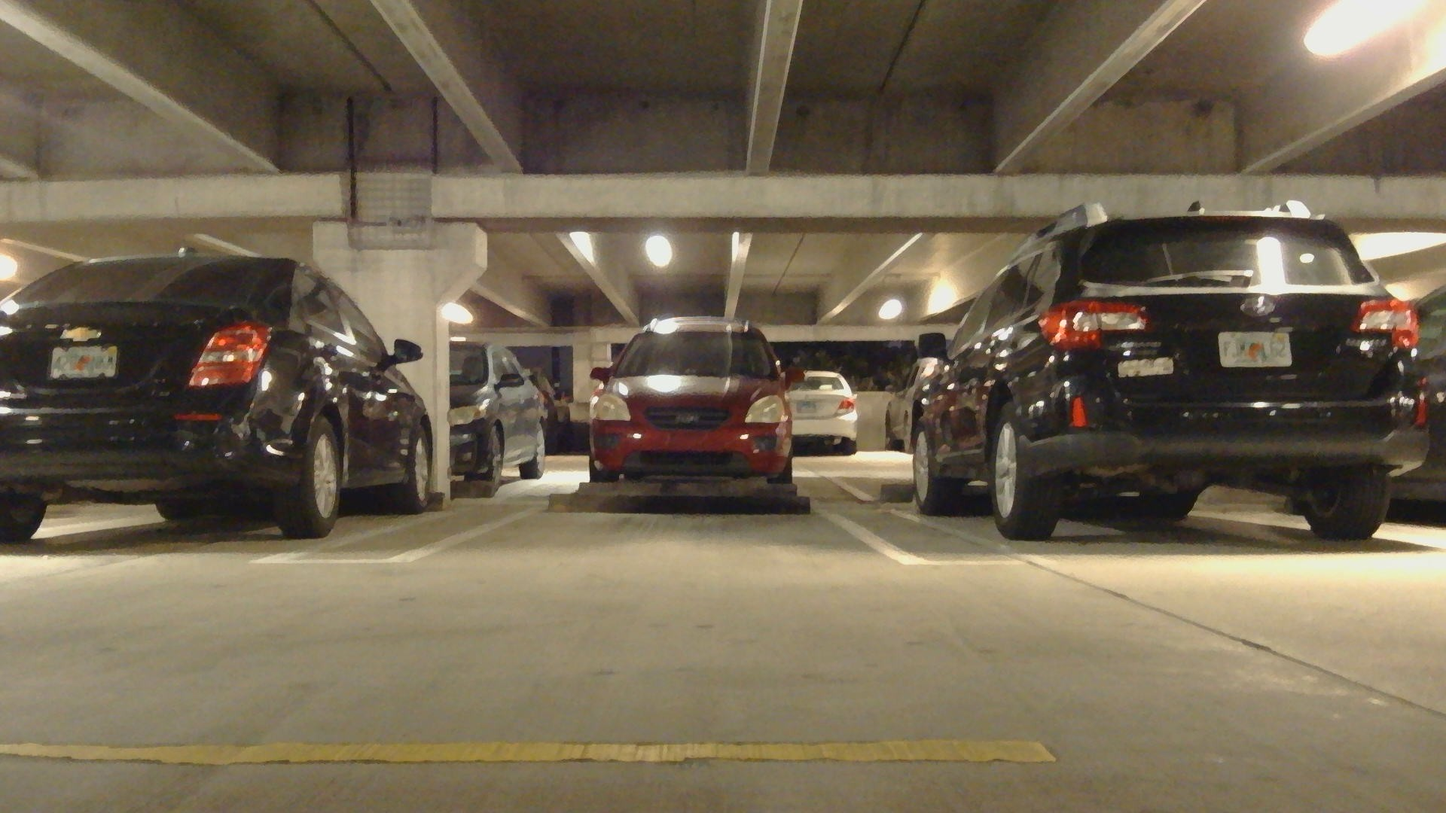empty_spot: (371, 501, 938, 565)
occupied_spot: (911, 200, 1437, 550), (0, 257, 438, 562)
